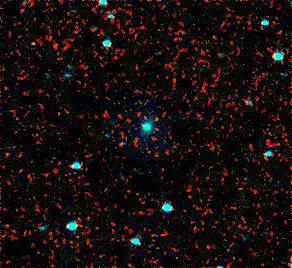star: (19, 28, 49, 58)
